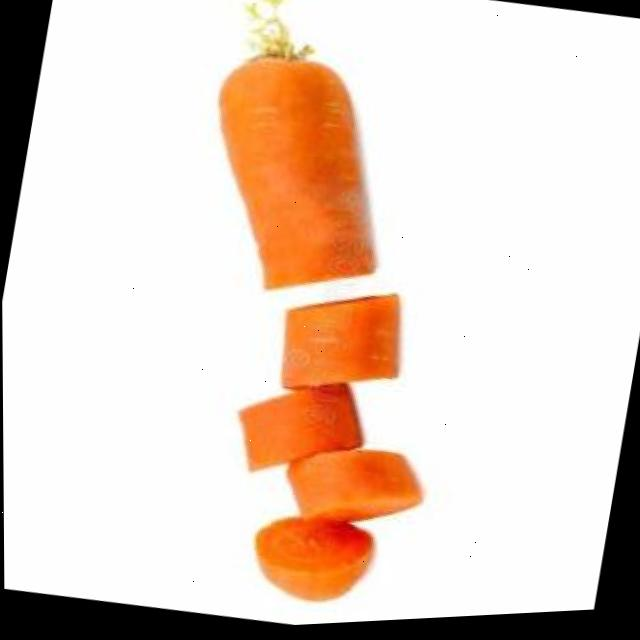Wet: (168, 0, 432, 322)
